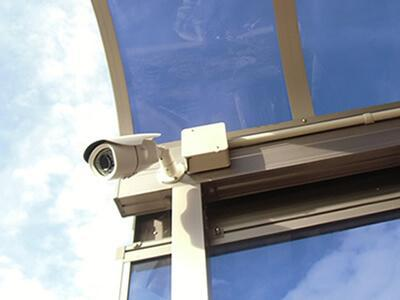tutu: (80, 127, 167, 182)
